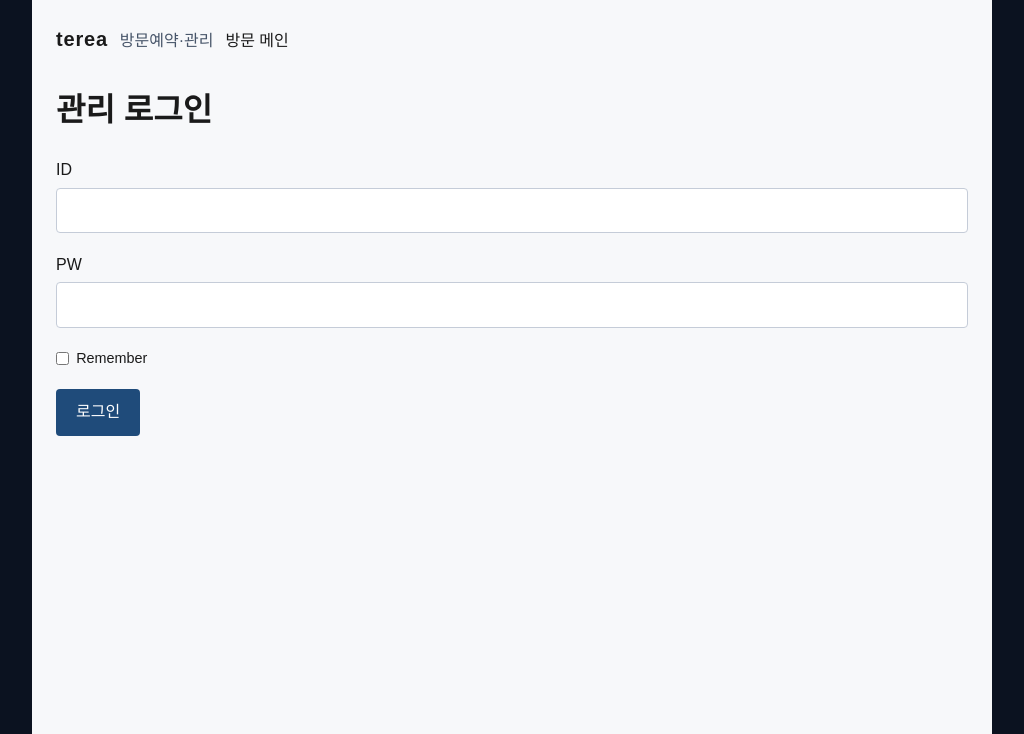
Test: R15: 관리 탭·밝은 UI 텍스트 대비 › 방문 다크모드가 켜져 있어도 관리 탭 라벨이 렌더된다
This screenshot has width=1024, height=734.
Step 1. Type "admin" into the field labelled "ID" → (512, 210), box x1=56 y1=188 x2=968 y2=233
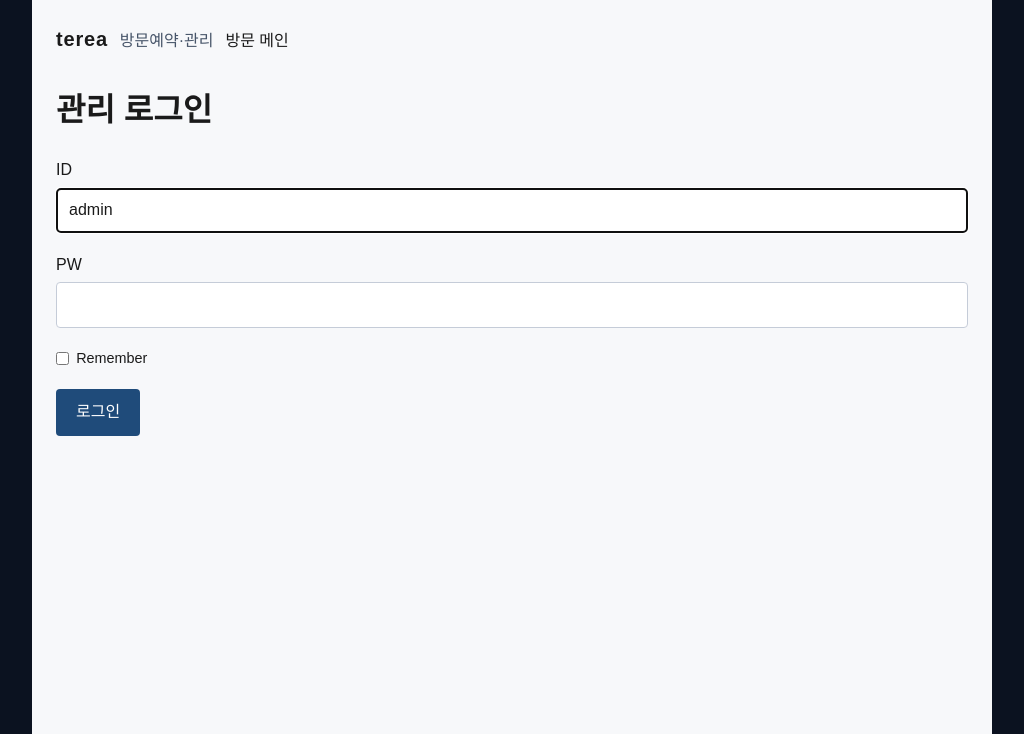
Step 2. Type "1234" into the password field labelled "PW" → (512, 305), box x1=56 y1=282 x2=968 y2=328
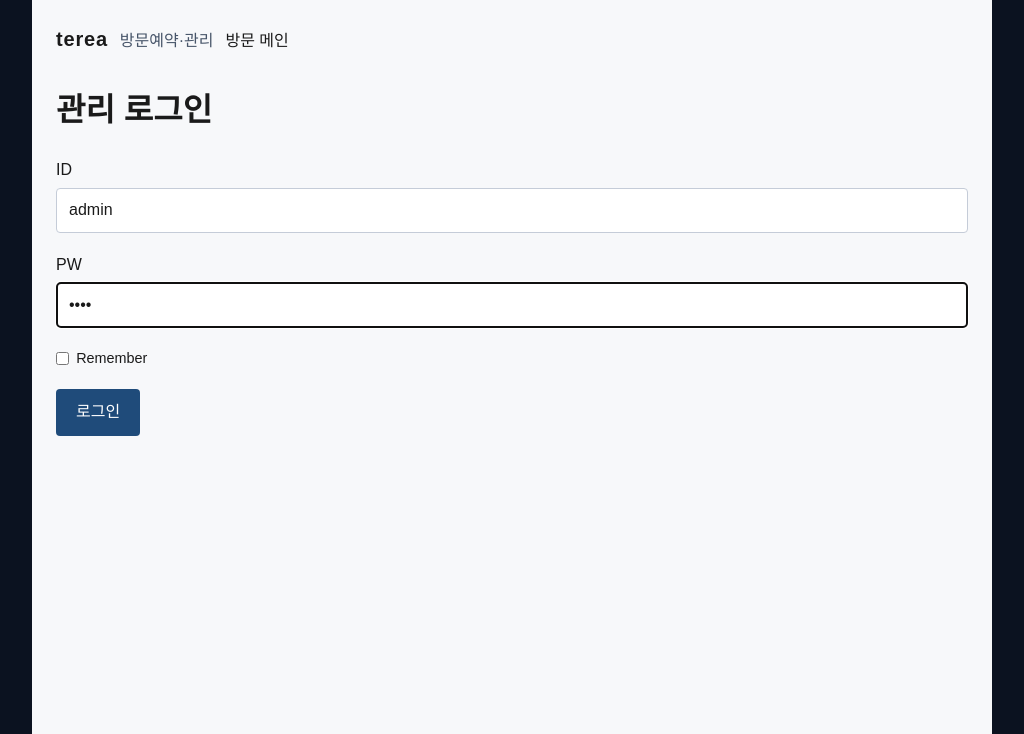
Step 3. Click the button "로그인" → (98, 412), box x1=56 y1=389 x2=140 y2=436
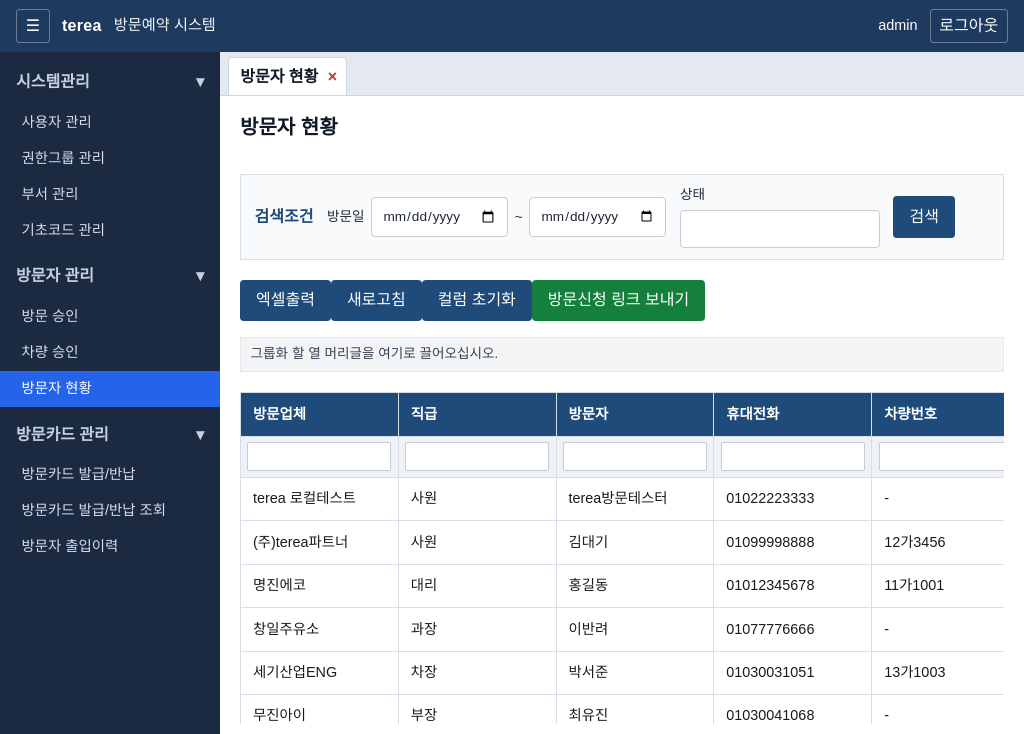
Step 4. Click the link "사용자 관리" → (57, 122), box x1=22 y1=114 x2=92 y2=130
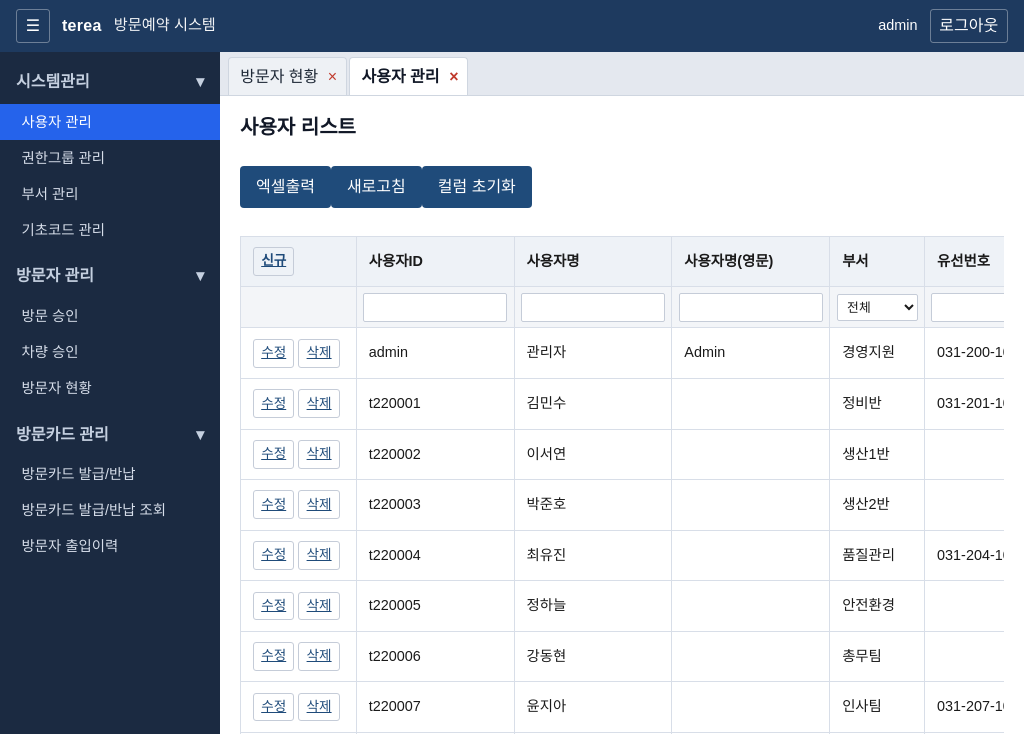
Result: the tab "사용자 관리 ×" is shown at x1=349 y1=57 x2=468 y2=95
Result: the button with class "admin-tab-label" showing "사용자 관리" is shown at x1=359 y1=61 x2=442 y2=92
